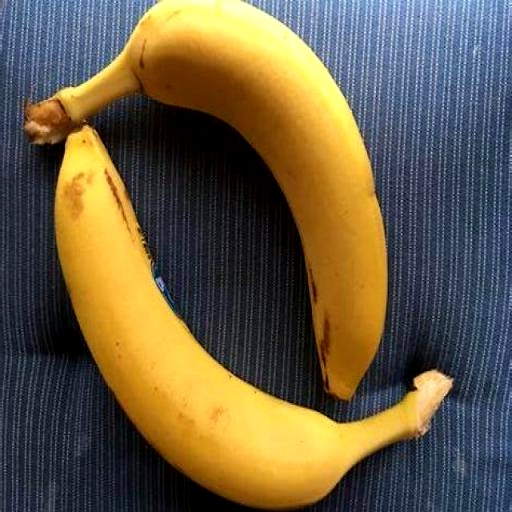fruit: (397, 181, 486, 512), (131, 0, 355, 13)
